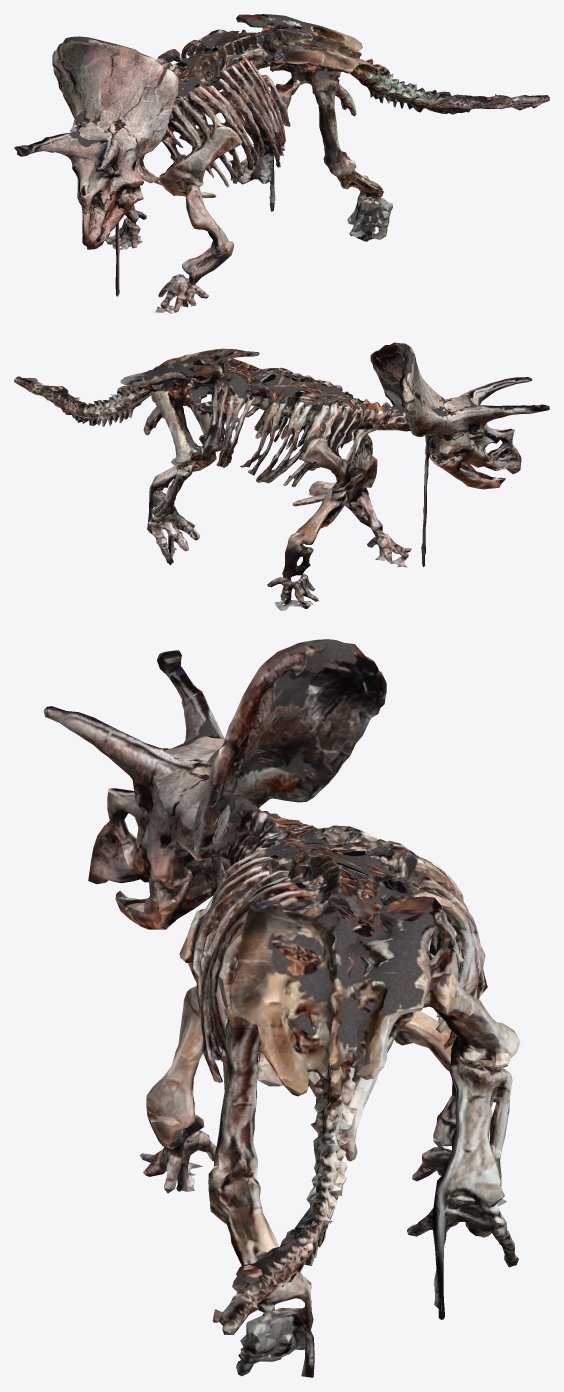
The model's file is triceratops.glb.
3 renders of one model, top to bottom at view 1: azimuth 30°, elevation 25°; view 2: azimuth 150°, elevation 25°; view 3: azimuth 270°, elevation 25°, orthographic. The views are drawn at different scales.
Size of the model in its own units: 3.97 by 1.79 by 1.58.
Materials: 1 (1 with a texture image).
